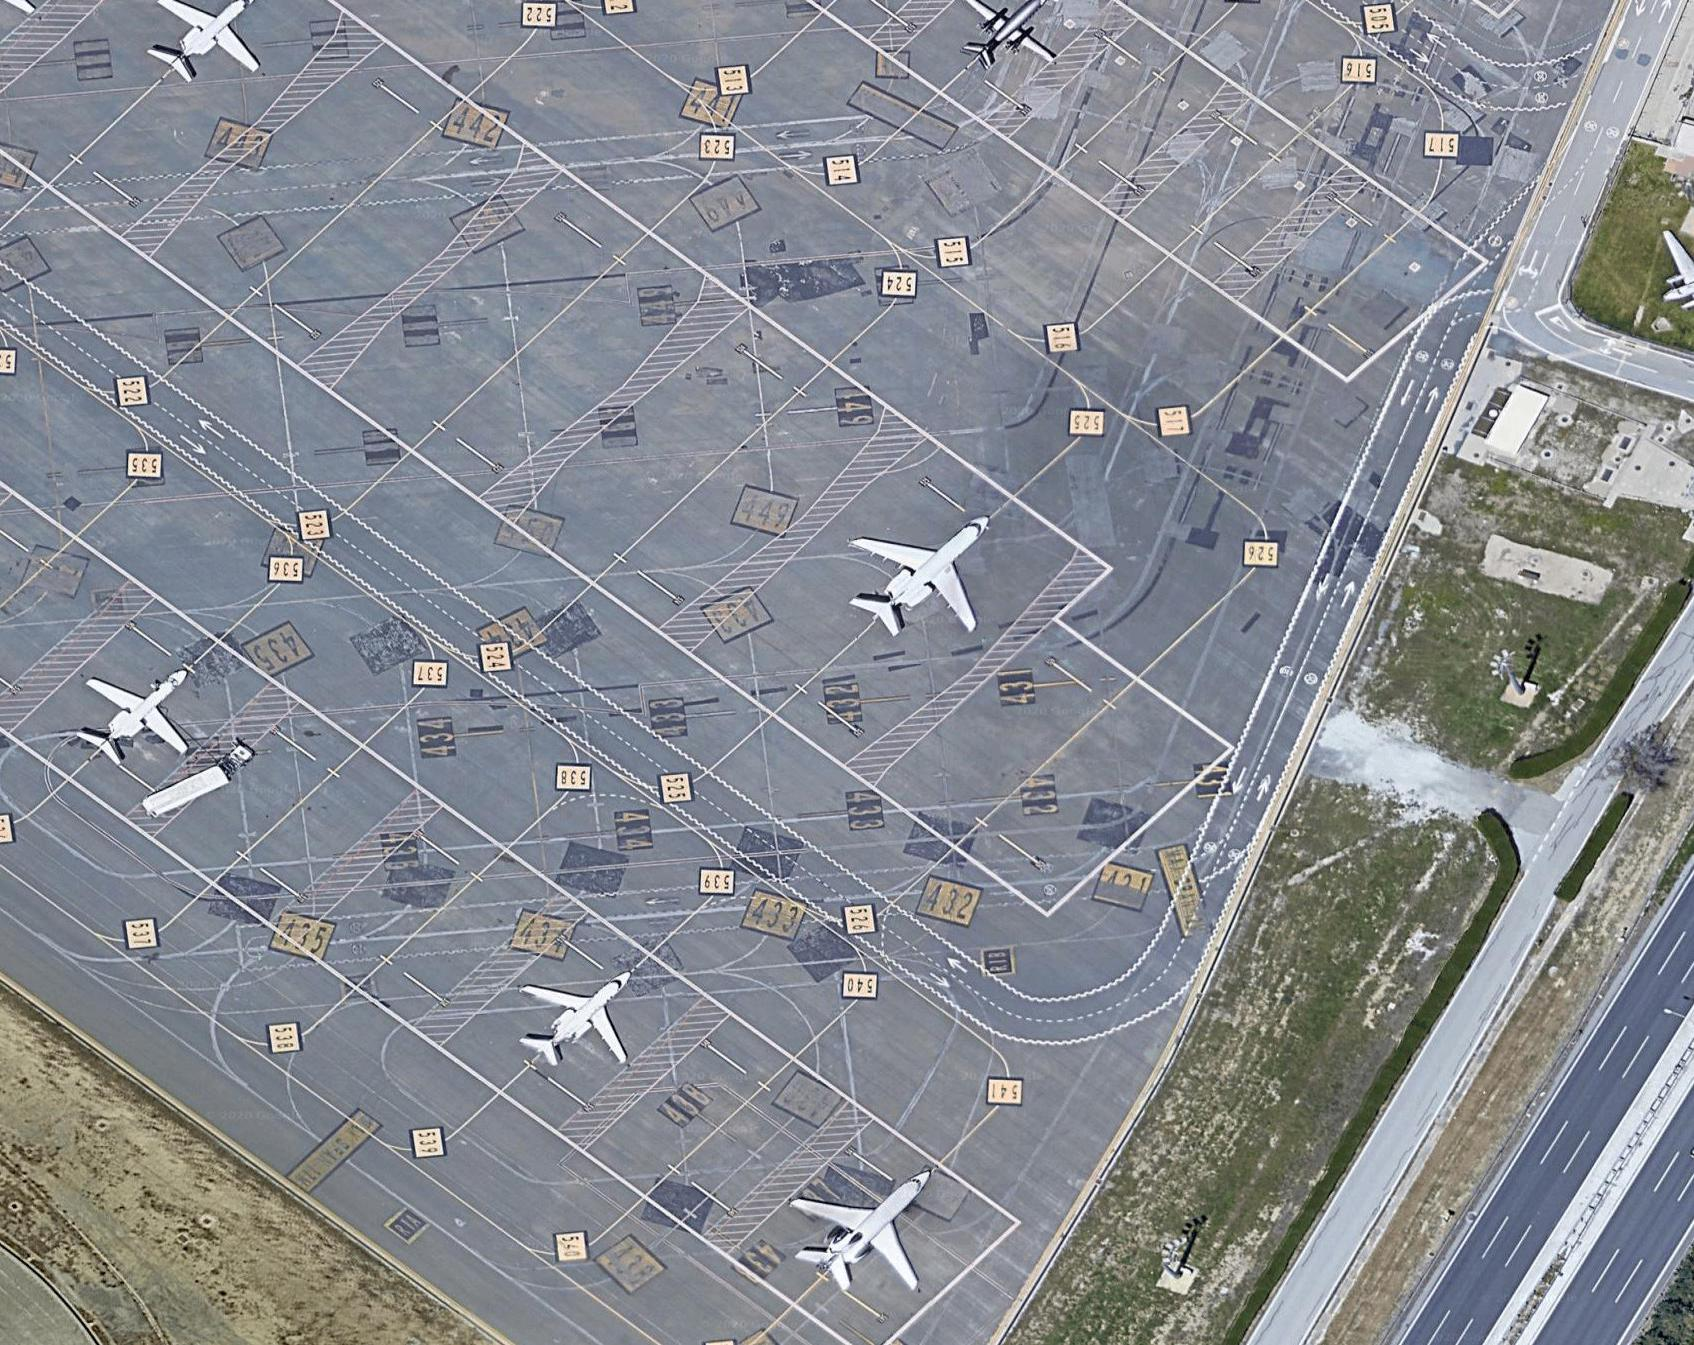plane: (815, 459, 1037, 679), (758, 1121, 984, 1333), (488, 915, 667, 1110), (65, 634, 221, 794), (115, 0, 298, 113), (938, 0, 1079, 87)
